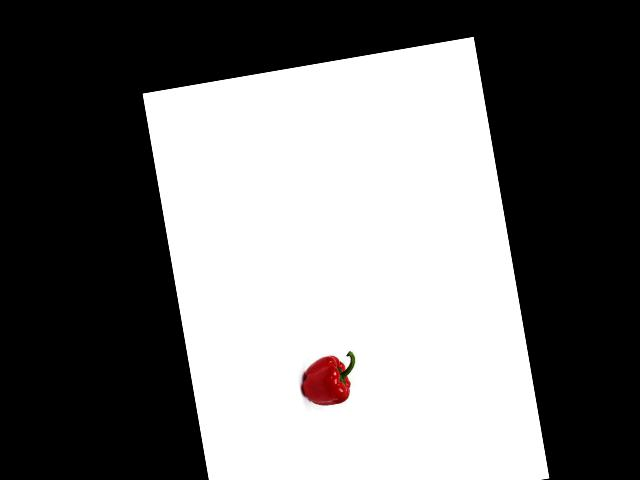bell_pepper: (295, 347, 363, 413)
